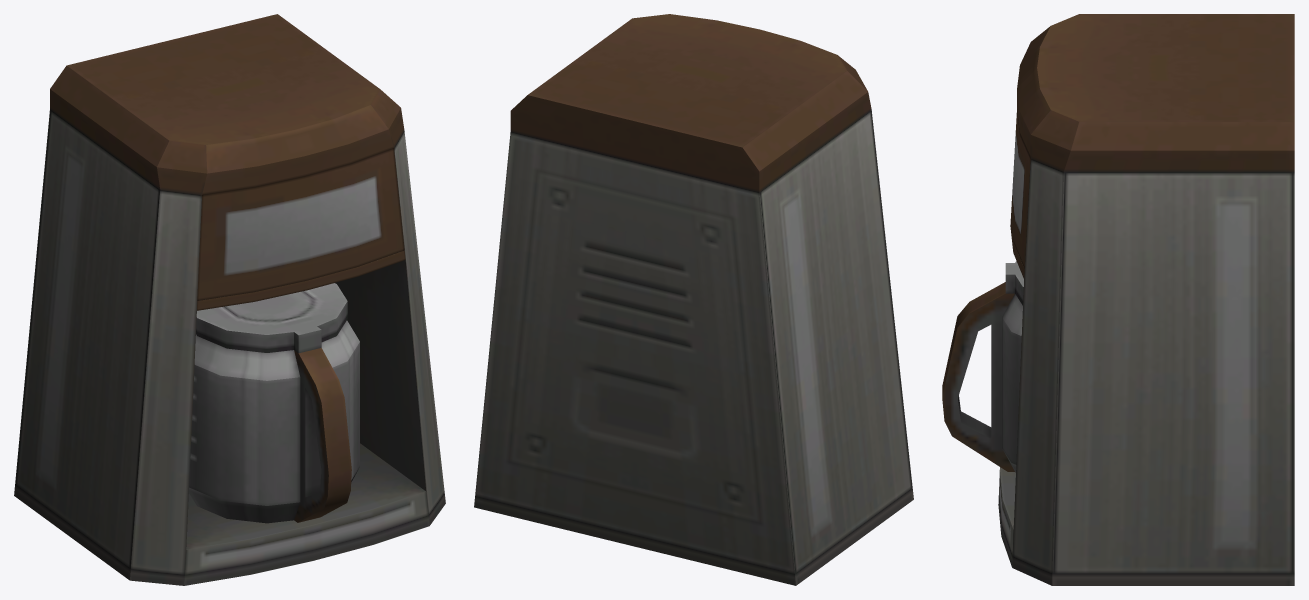
File: cafetera.fbx
The picture shows the model from 3 angles, left to right: view 1: azimuth 30°, elevation 25°; view 2: azimuth 150°, elevation 25°; view 3: azimuth 270°, elevation 25°; orthographic projection. The views are drawn at different scales.
Visible parts, largest first — view 1: s4studio_mesh_0, s4studio_mesh_1; view 2: s4studio_mesh_0; view 3: s4studio_mesh_0, s4studio_mesh_1.
Boxes of the visible parts, bbox=[...] form: s4studio_mesh_0: bbox=[14, 14, 445, 585]; s4studio_mesh_1: bbox=[189, 320, 359, 523]; s4studio_mesh_0: bbox=[474, 14, 913, 585]; s4studio_mesh_0: bbox=[942, 14, 1294, 585]; s4studio_mesh_1: bbox=[1002, 294, 1022, 472].
Bounding box in the file's own units: 37.26 × 47.04 × 34.37.
2 materials, 2 textured.
